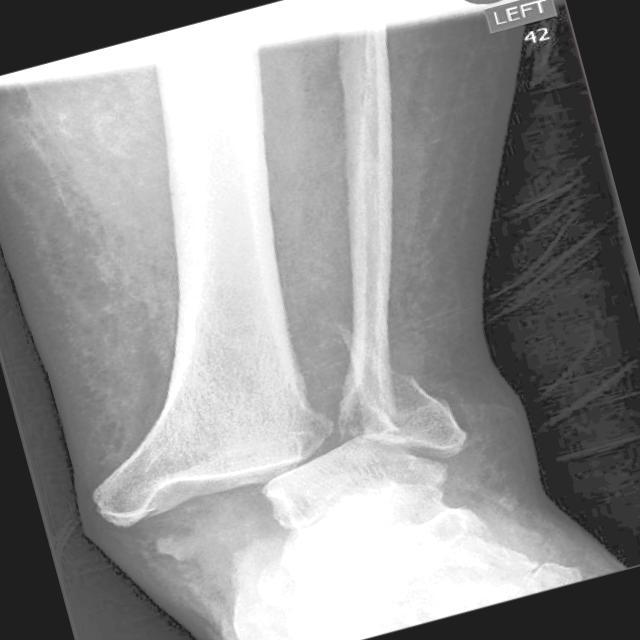Fracture Dislocation: (319, 371, 471, 459)
